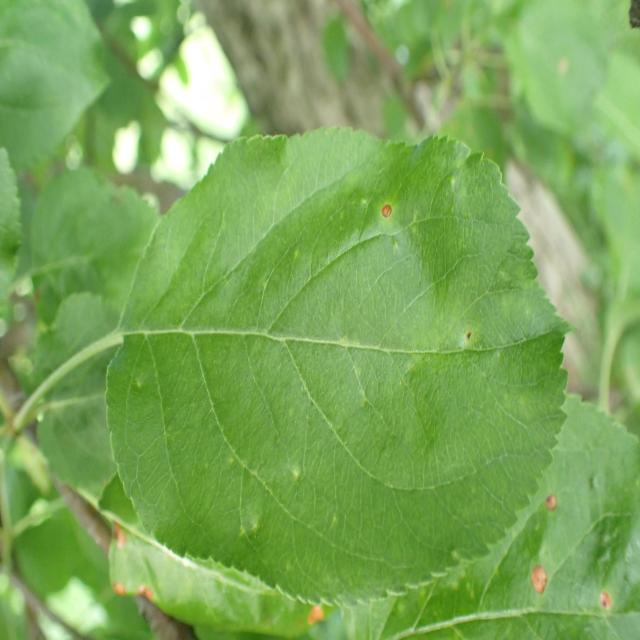Black Rot: (355, 194, 405, 247), (584, 570, 623, 624), (528, 558, 554, 620), (532, 488, 568, 528), (458, 328, 483, 382)
